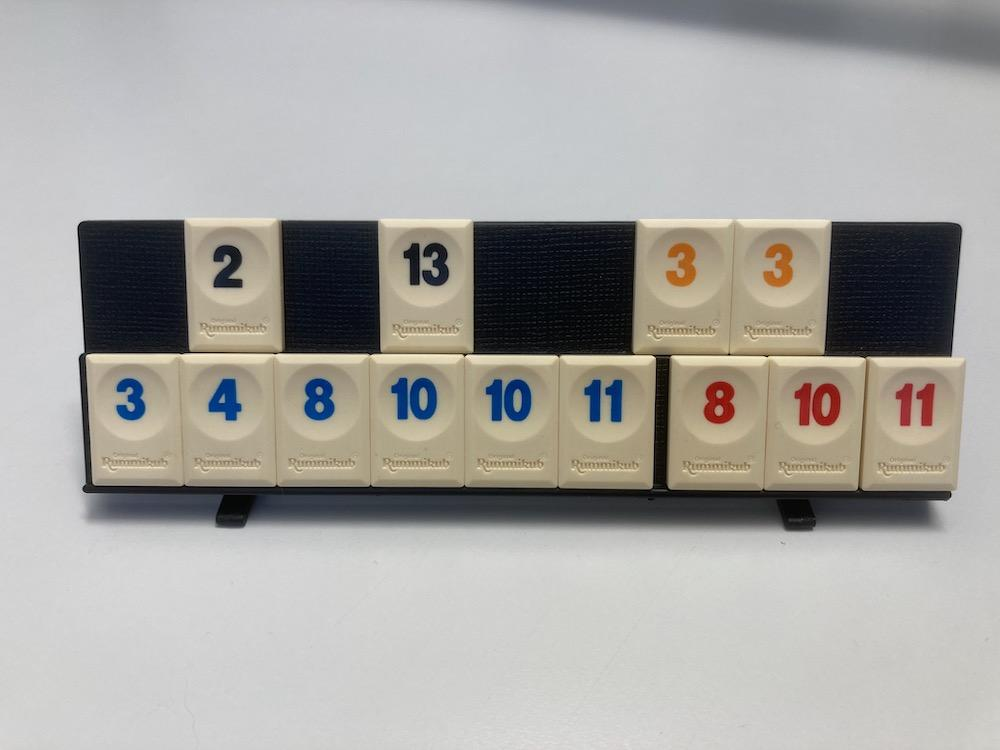black_13: (379, 219, 476, 352)
black_2: (186, 218, 284, 351)
blue_10: (465, 355, 559, 488), (371, 356, 463, 486)
blue_11: (559, 355, 654, 490)
blue_3: (87, 354, 184, 487)
blue_4: (181, 354, 277, 486)
blue_8: (275, 354, 369, 486)
orange_3: (632, 219, 734, 355), (730, 219, 830, 355)
red_10: (764, 357, 865, 490)
red_11: (859, 357, 967, 492)
red_8: (668, 355, 766, 490)
